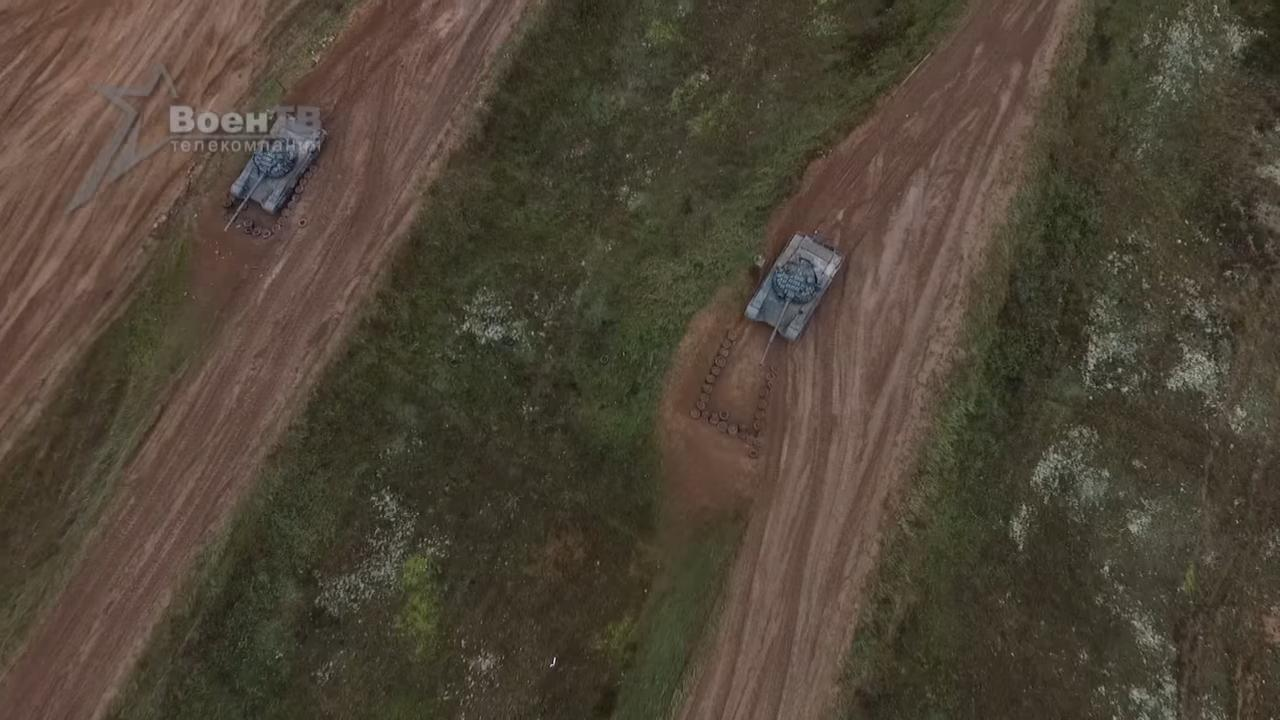tank: (745, 235, 843, 365), (225, 112, 328, 231)
